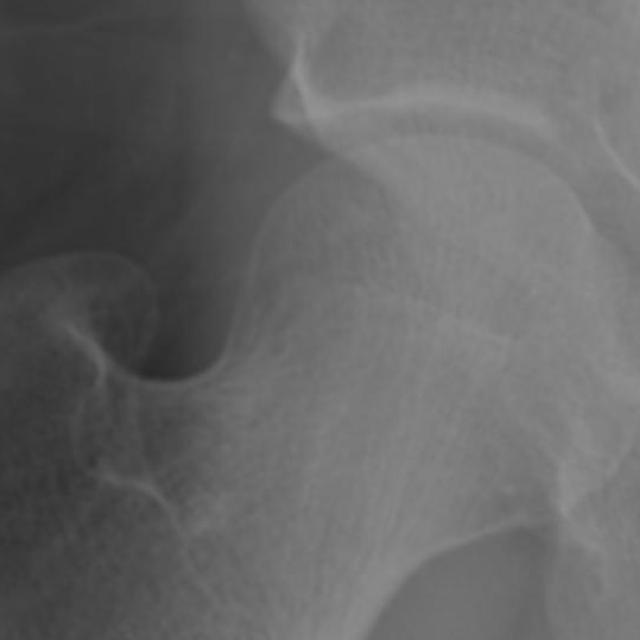Fitted_femural_head: (427, 141, 432, 427)
